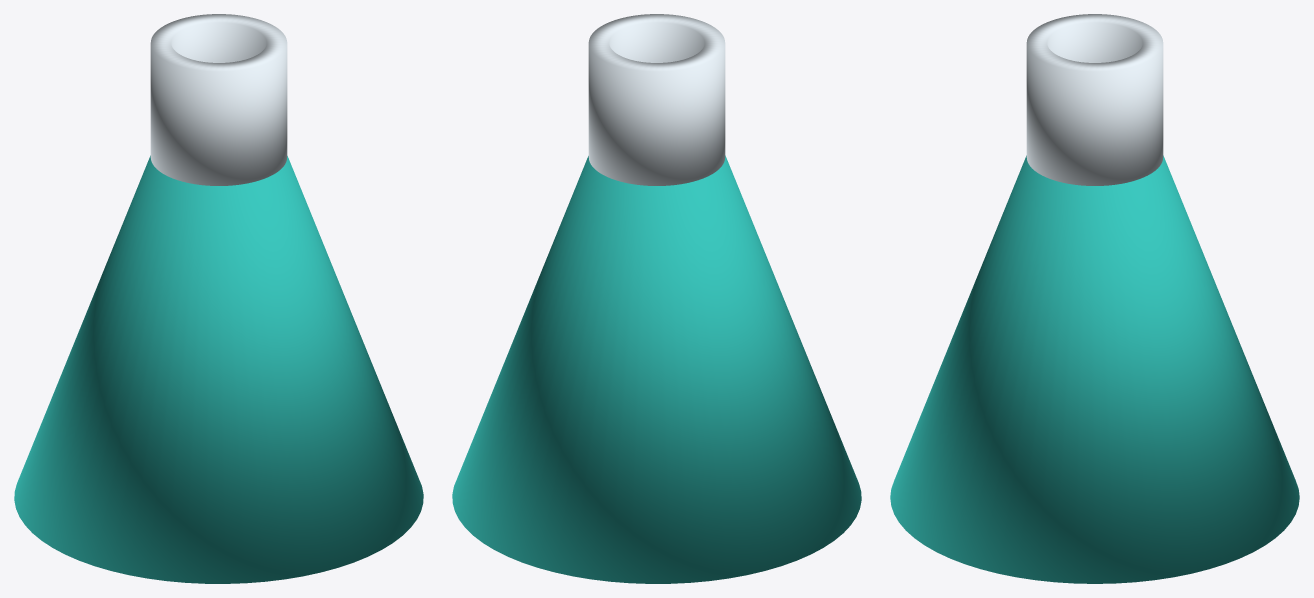
The model's file is conical-flask-quality.glb.
3 renders of one model, left to right at view 1: azimuth 30°, elevation 25°; view 2: azimuth 150°, elevation 25°; view 3: azimuth 270°, elevation 25°, orthographic.
Parts seen in each view (by area): view 1: Flask body; view 2: Flask body; view 3: Flask body.
Boxes of the visible parts, bbox=[...] form: Flask body: bbox=[14, 14, 423, 583]; Flask body: bbox=[452, 14, 861, 583]; Flask body: bbox=[890, 14, 1299, 583].
Size of the model in its own units: 1.2 by 1.47 by 1.2.
